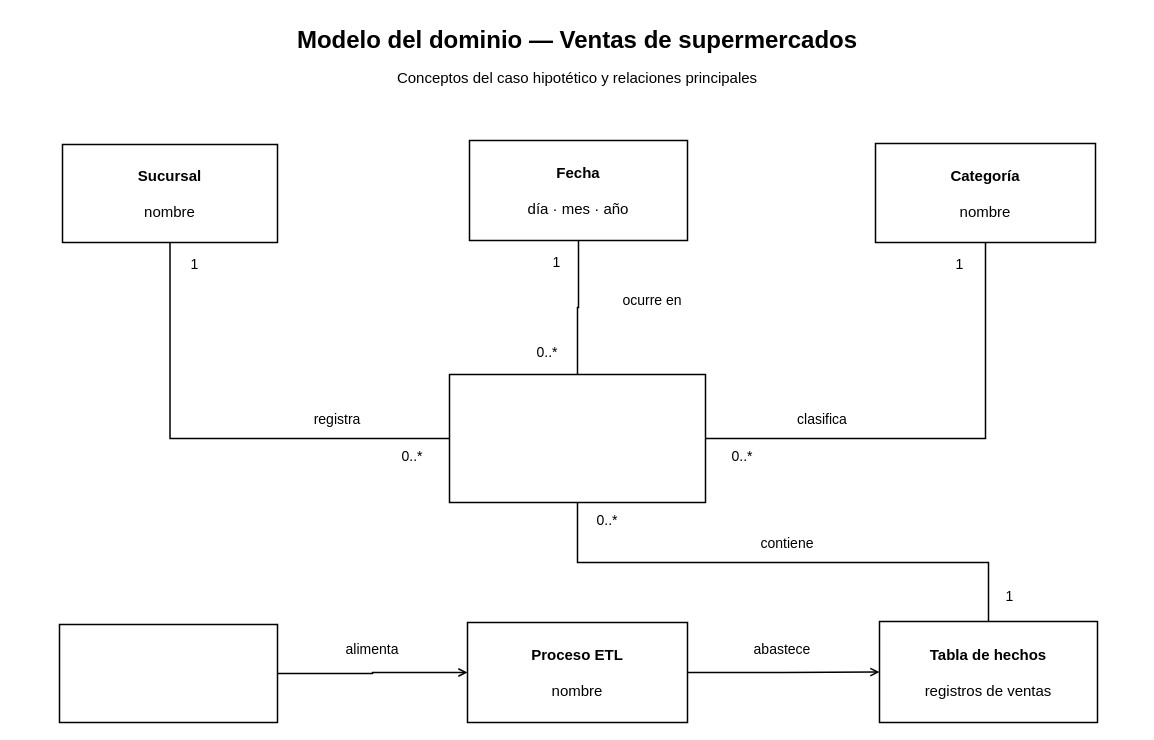
Image size: 1154x740. Some labels were removed from this diagram. The centre of each missing label's shape, as x and y in pixels:
"Fuente de datos nombre" belongs at point 168,673.
"Venta ID · unidades · importe total" belongs at point 577,438.
